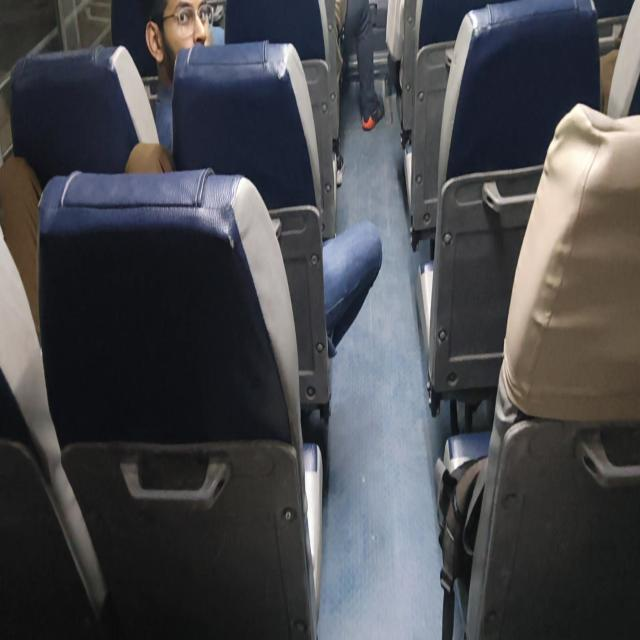person: (139, 0, 232, 65)
